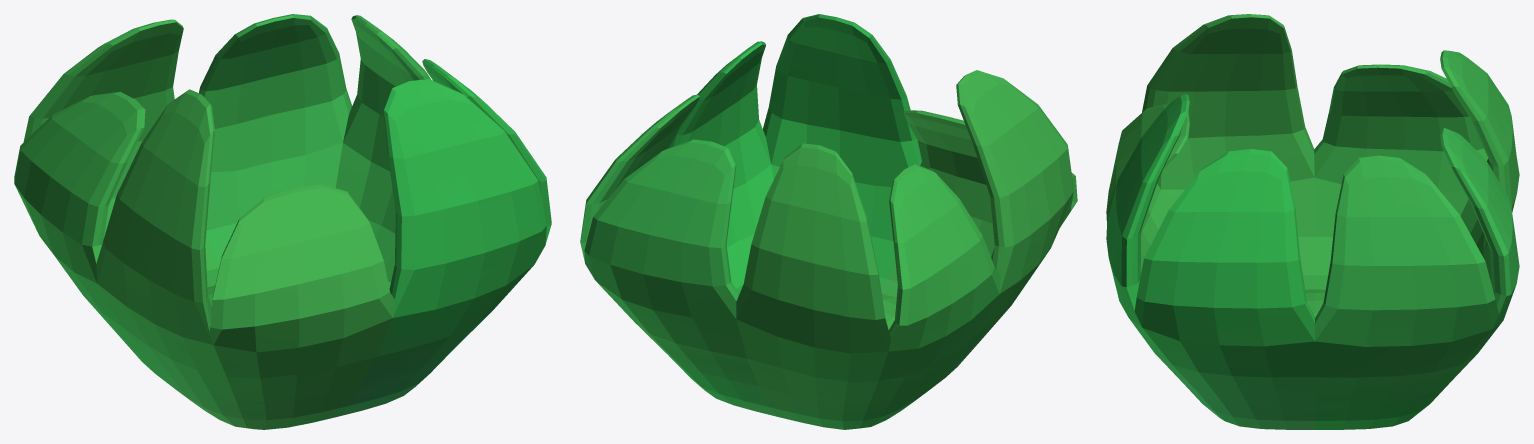
File: SM_Crop_Lettuce_Stage_Growing.fbx
3 renders of one model, left to right at view 1: azimuth 30°, elevation 25°; view 2: azimuth 150°, elevation 25°; view 3: azimuth 270°, elevation 25°, orthographic. The views are drawn at different scales.
Visible parts, largest first — view 1: SM_Crop_Lettuce_ST2; view 2: SM_Crop_Lettuce_ST2; view 3: SM_Crop_Lettuce_ST2.
Boxes of the visible parts, <box> form: SM_Crop_Lettuce_ST2: <box>14,14,551,429</box>; SM_Crop_Lettuce_ST2: <box>580,14,1077,429</box>; SM_Crop_Lettuce_ST2: <box>1106,14,1519,429</box>.
Bounding box in the file's own units: 49.16 × 42.41 × 48.7.
Materials: 1 (1 with a texture image).
